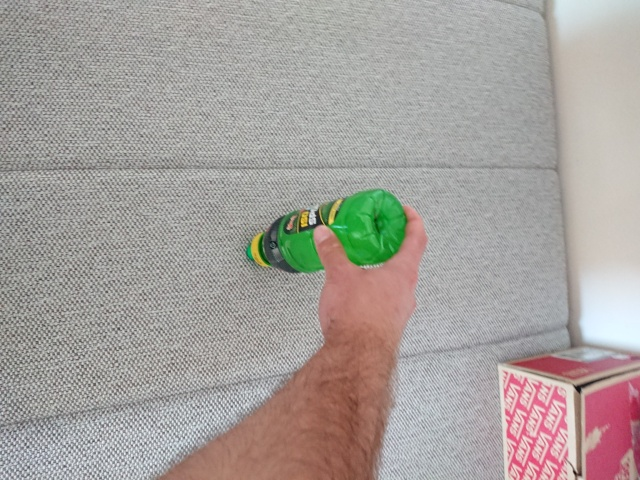Vindi Iso Sport Lemon-Grapefruit 500mL: (243, 186, 410, 276)
